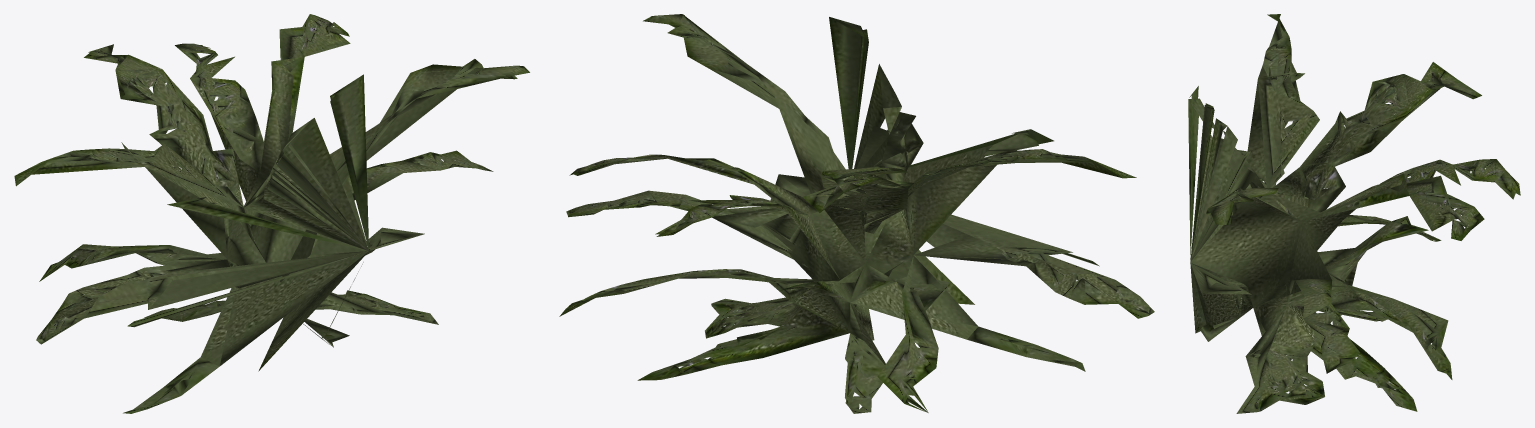
The model's file is coastal_fern.glb.
3 views of the same model, side by side, from view 1: azimuth 30°, elevation 25°; view 2: azimuth 150°, elevation 25°; view 3: azimuth 270°, elevation 25° (orthographic). The views are drawn at different scales.
Parts seen in each view (by area): view 1: tripo_node_61aa88ac-b14e-49e8-a213-1e0177c2ded8; view 2: tripo_node_61aa88ac-b14e-49e8-a213-1e0177c2ded8; view 3: tripo_node_61aa88ac-b14e-49e8-a213-1e0177c2ded8.
Part boxes in pixels (x1,y1,x2,y2): tripo_node_61aa88ac-b14e-49e8-a213-1e0177c2ded8: (14,14,529,413); tripo_node_61aa88ac-b14e-49e8-a213-1e0177c2ded8: (559,14,1154,413); tripo_node_61aa88ac-b14e-49e8-a213-1e0177c2ded8: (1188,14,1520,413).
Bounding box in the file's own units: 0.9251 × 0.4932 × 0.5637.
Materials: 1 (1 with a texture image).
